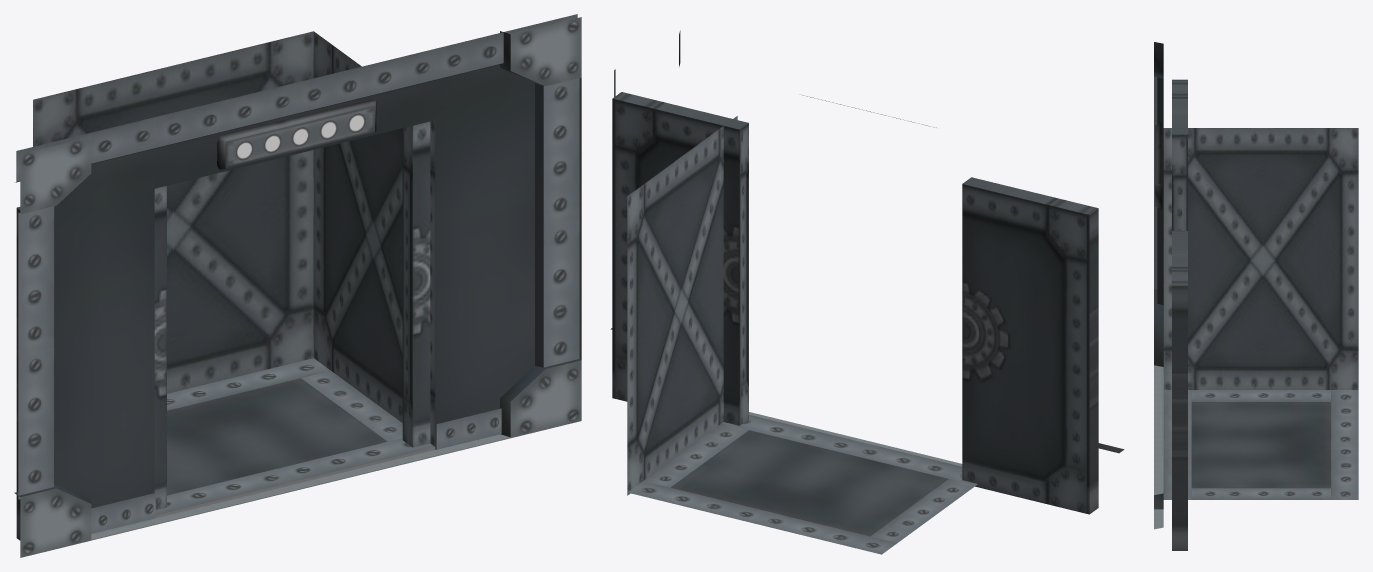
The model's file is elevator.glb.
3 views of the same model, side by side, from view 1: azimuth 30°, elevation 25°; view 2: azimuth 150°, elevation 25°; view 3: azimuth 270°, elevation 25° (orthographic). The views are drawn at different scales.
Parts seen in each view (by area): view 1: elevator, decal_base (×2), frame, ground, corners, flashing, right-door, left-door, decals (×2), light_panel, light_panel_frame; view 2: left-door, elevator, ground, right-door, frame; view 3: elevator, ground, right-door, frame, left-door, corners, light_panel_frame.
Boxes of the visible parts, x1,y1,x2,y2 form: elevator: [33, 31, 435, 517]; decal_base (×2): [55, 96, 534, 508]; frame: [15, 14, 581, 540]; ground: [155, 358, 434, 514]; corners: [14, 17, 581, 557]; flashing: [55, 64, 534, 212]; right-door: [402, 121, 430, 447]; left-door: [16, 186, 166, 540]; decals (×2): [91, 408, 501, 533]; light_panel: [225, 105, 374, 168]; light_panel_frame: [217, 99, 376, 169]; left-door: [962, 177, 1098, 514]; elevator: [627, 116, 737, 495]; ground: [627, 415, 977, 554]; right-door: [612, 92, 748, 425]; frame: [614, 69, 962, 466]; elevator: [1163, 128, 1358, 389]; ground: [1163, 390, 1358, 499]; right-door: [1172, 231, 1187, 550]; frame: [1154, 77, 1163, 529]; left-door: [1172, 79, 1187, 230]; corners: [1154, 42, 1163, 509]; light_panel_frame: [1155, 122, 1162, 209].
Bounding box in the file's own units: 16 × 11 × 6.33.
13 materials, 12 textured.
